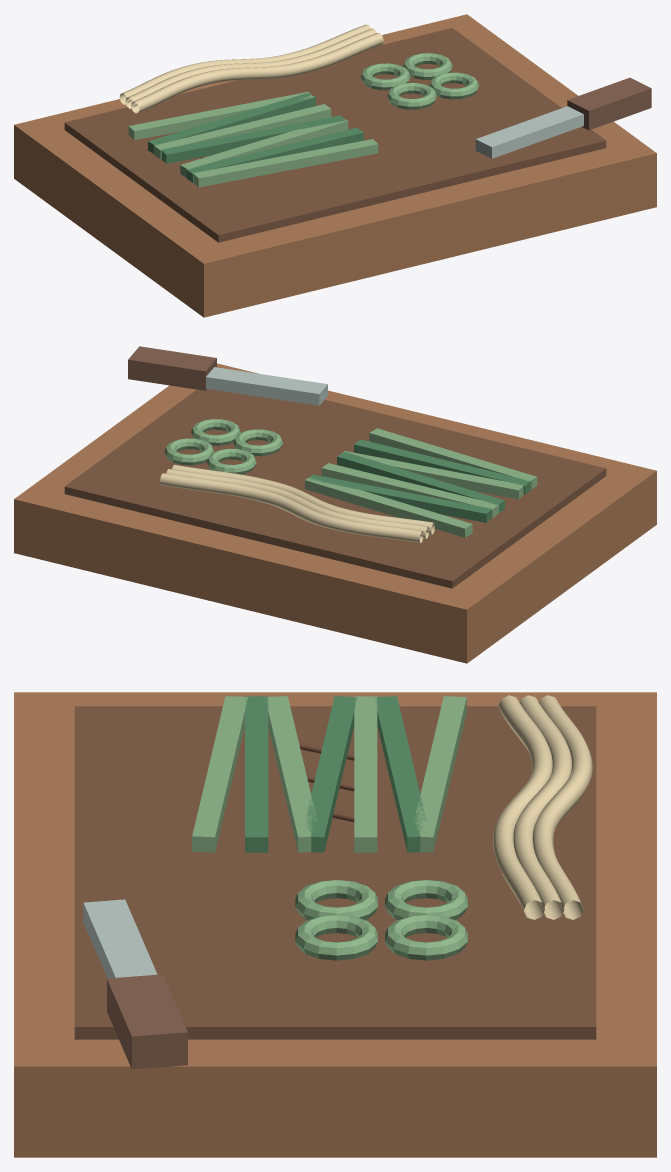
File: sliced_noodle_greens.glb
3 views of the same model, one above another, from view 1: azimuth 30°, elevation 25°; view 2: azimuth 150°, elevation 25°; view 3: azimuth 270°, elevation 25° (orthographic). The views are drawn at different scales.
Visible parts, largest first — view 1: noodle_greens_rounded_board_body, noodle_greens_rounded_board_inset, uncooked_noodle_loop_0, choy_strip_0, noodle_greens_knife_handle, noodle_greens_knife_blade, choy_strip_3, choy_strip_6, choy_strip_4, choy_strip_1, choy_strip_5, choy_strip_2 (+6 smaller); view 2: noodle_greens_rounded_board_body, noodle_greens_rounded_board_inset, uncooked_noodle_loop_2, noodle_greens_knife_handle, noodle_greens_knife_blade, choy_strip_6, choy_strip_5, choy_strip_1, choy_strip_4, choy_strip_0, choy_strip_2, choy_strip_3 (+6 smaller); view 3: noodle_greens_rounded_board_body, noodle_greens_rounded_board_inset, noodle_greens_knife_handle, uncooked_noodle_loop_0, uncooked_noodle_loop_2, uncooked_noodle_loop_1, choy_strip_0, choy_strip_6, choy_strip_3, noodle_greens_knife_blade, choy_strip_2, choy_strip_5 (+6 smaller).
Boxes of the visible parts, bbox=[...] form: noodle_greens_rounded_board_body: bbox=[14, 14, 656, 317]; noodle_greens_rounded_board_inset: bbox=[64, 28, 606, 242]; uncooked_noodle_loop_0: bbox=[131, 33, 383, 113]; choy_strip_0: bbox=[193, 139, 378, 187]; noodle_greens_knife_handle: bbox=[567, 77, 651, 130]; noodle_greens_knife_blade: bbox=[475, 106, 583, 158]; choy_strip_3: bbox=[161, 115, 345, 163]; choy_strip_6: bbox=[128, 92, 313, 140]; choy_strip_4: bbox=[154, 104, 331, 159]; choy_strip_1: bbox=[186, 127, 363, 183]; choy_strip_5: bbox=[148, 93, 315, 153]; choy_strip_2: bbox=[180, 119, 348, 177]; noodle_greens_rounded_board_body: bbox=[14, 363, 656, 663]; noodle_greens_rounded_board_inset: bbox=[64, 389, 606, 588]; uncooked_noodle_loop_2: bbox=[160, 473, 423, 542]; noodle_greens_knife_handle: bbox=[128, 346, 216, 390]; noodle_greens_knife_blade: bbox=[206, 367, 327, 405]; choy_strip_6: bbox=[305, 477, 472, 537]; choy_strip_5: bbox=[309, 474, 491, 522]; choy_strip_1: bbox=[354, 439, 531, 494]; choy_strip_4: bbox=[321, 463, 498, 518]; choy_strip_0: bbox=[369, 428, 537, 488]; choy_strip_2: bbox=[342, 451, 523, 499]; choy_strip_3: bbox=[337, 452, 504, 512]; noodle_greens_rounded_board_body: bbox=[14, 692, 656, 1157]; noodle_greens_rounded_board_inset: bbox=[74, 706, 596, 1039]; noodle_greens_knife_handle: bbox=[107, 974, 187, 1069]; uncooked_noodle_loop_0: bbox=[493, 695, 552, 919]; uncooked_noodle_loop_2: bbox=[533, 695, 592, 919]; uncooked_noodle_loop_1: bbox=[513, 695, 571, 919]; choy_strip_0: bbox=[192, 696, 248, 852]; choy_strip_6: bbox=[414, 696, 466, 852]; choy_strip_3: bbox=[305, 696, 357, 852]; noodle_greens_knife_blade: bbox=[83, 899, 157, 978]; choy_strip_2: bbox=[266, 696, 316, 852]; choy_strip_5: bbox=[374, 696, 425, 852].
Size of the model in its own units: 0.7778 by 0.1415 by 0.53.
